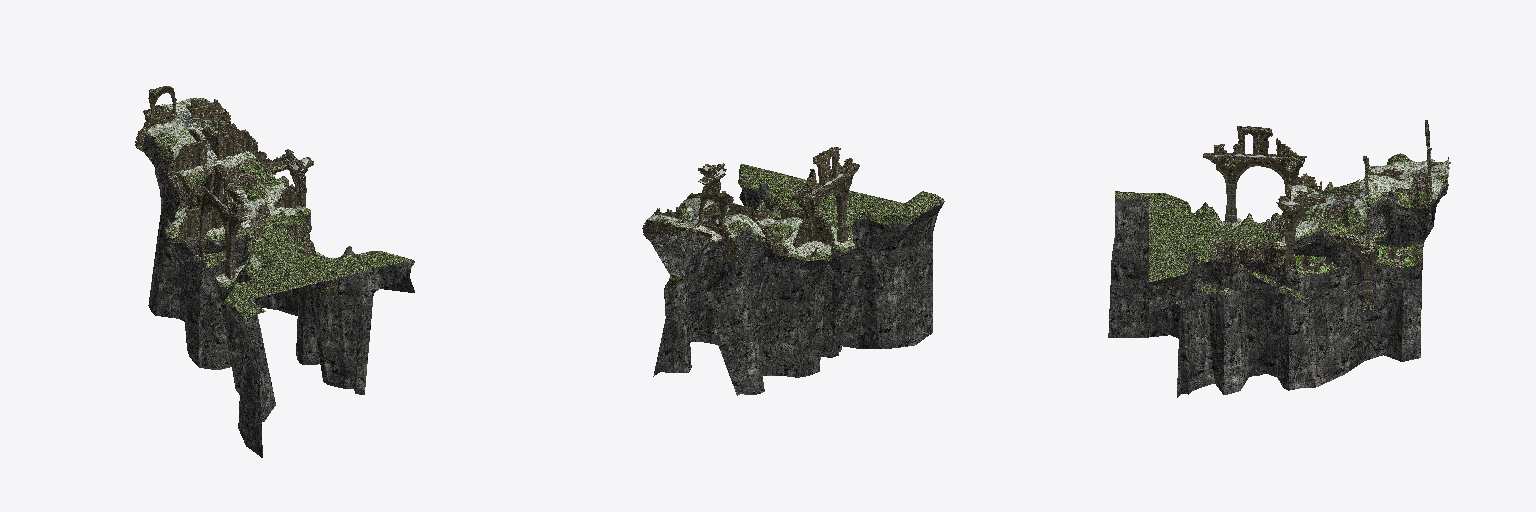
The picture shows the model from 3 angles: view 1: azimuth 30°, elevation 25°; view 2: azimuth 150°, elevation 25°; view 3: azimuth 270°, elevation 25°; orthographic projection.
Parts seen in each view (by area): view 1: mesh5, mesh17, mesh6, mesh0, mesh7, mesh13, mesh12, mesh11, mesh19, mesh8, mesh18, mesh20 (+1 smaller); view 2: mesh5, mesh6, mesh17, mesh0, mesh7, mesh13, mesh18, mesh8, mesh19; view 3: mesh5, mesh17, mesh0, mesh6, mesh7, mesh13, mesh12, mesh8, mesh19, mesh11, mesh20, mesh10 (+1 smaller).
Part boxes in pixels (x1,y1,x2,y2): mesh5: (143,118,414,457); mesh17: (145,98,414,321); mesh6: (136,101,313,238); mesh0: (165,98,411,296); mesh7: (142,91,306,279); mesh13: (147,99,306,283); mesh12: (255,221,337,284); mesh11: (143,100,302,254); mesh19: (149,86,313,255); mesh8: (135,88,313,261); mesh18: (151,100,302,233); mesh20: (145,116,314,251); mesh5: (645,182,943,395); mesh6: (643,147,859,259); mesh17: (650,164,944,290); mesh0: (656,164,892,257); mesh7: (652,155,857,259); mesh13: (644,201,854,256); mesh18: (648,198,829,251); mesh8: (642,149,850,259); mesh19: (655,147,859,241); mesh5: (1108,185,1448,397); mesh17: (1115,153,1448,299); mesh0: (1149,174,1448,278); mesh6: (1203,128,1442,244); mesh7: (1204,133,1430,293); mesh13: (1220,159,1449,245); mesh12: (1149,195,1412,242); mesh8: (1223,128,1442,311); mesh19: (1203,120,1450,257); mesh11: (1215,157,1448,259); mesh20: (1213,179,1363,271); mesh10: (1211,161,1376,266).
Bounding box in the file's own units: 35.74 × 43.71 × 56.39.
21 materials, 12 textured.